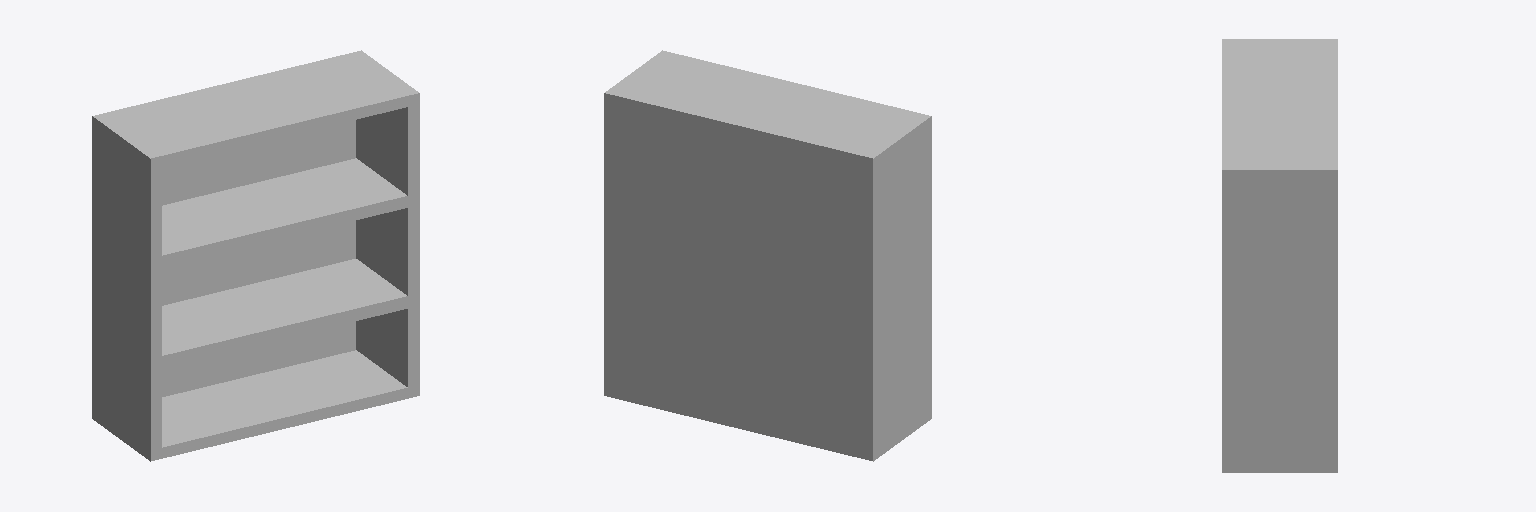
File: kitchen_shelf_main_1.obj
3 renders of one model, left to right at view 1: azimuth 30°, elevation 25°; view 2: azimuth 150°, elevation 25°; view 3: azimuth 270°, elevation 25°, orthographic.
Size of the model in its own units: 9.54 by 10.27 by 3.58.